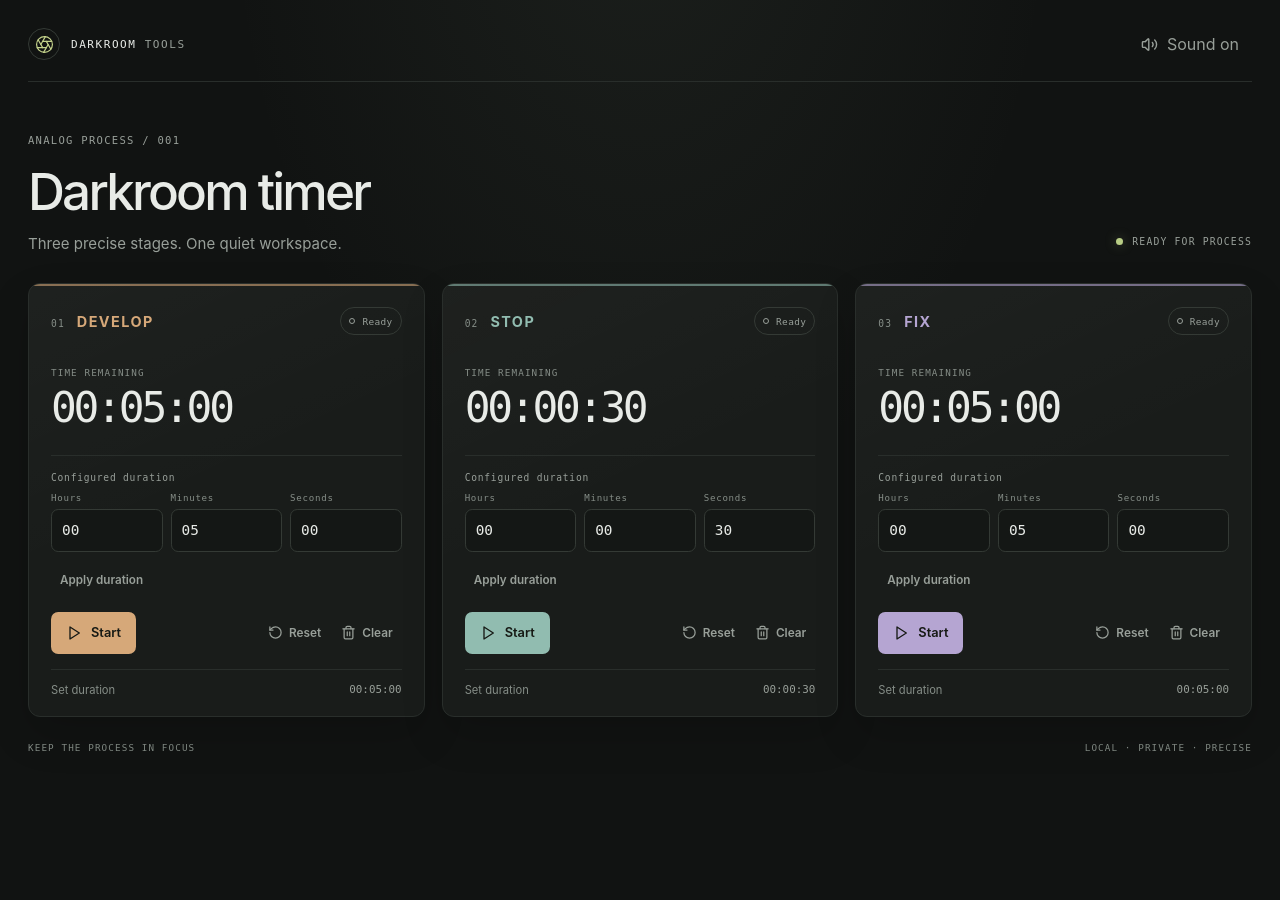
Test: darkroom timer interactions › can complete a one-second timer without announcing every tick
Replace the text in the field named "DEVELOP hours" with "0" at (107, 530), box [51,509,162,552]
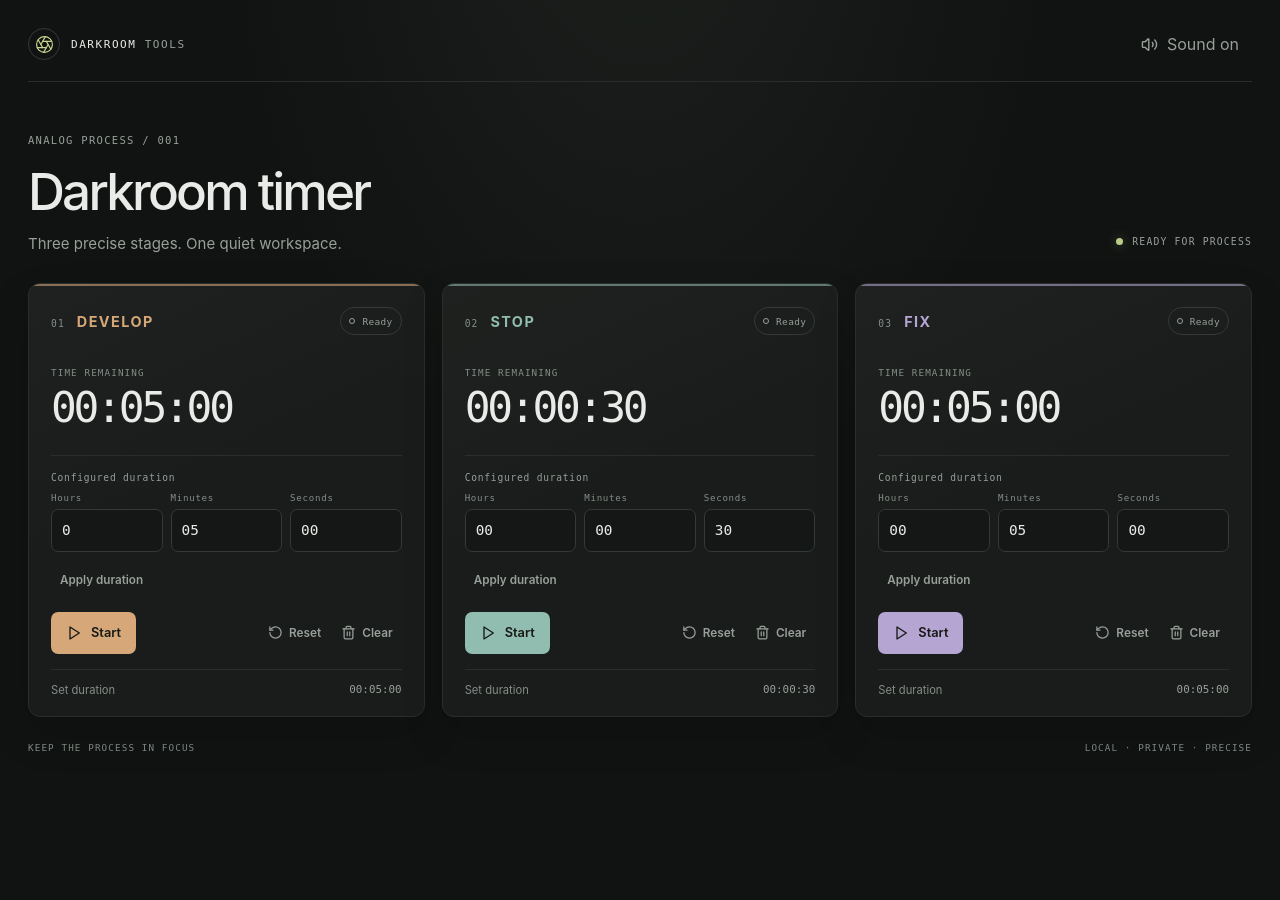
Replace the text in the field named "DEVELOP minutes" with "0" at (226, 530), box [170,509,282,552]
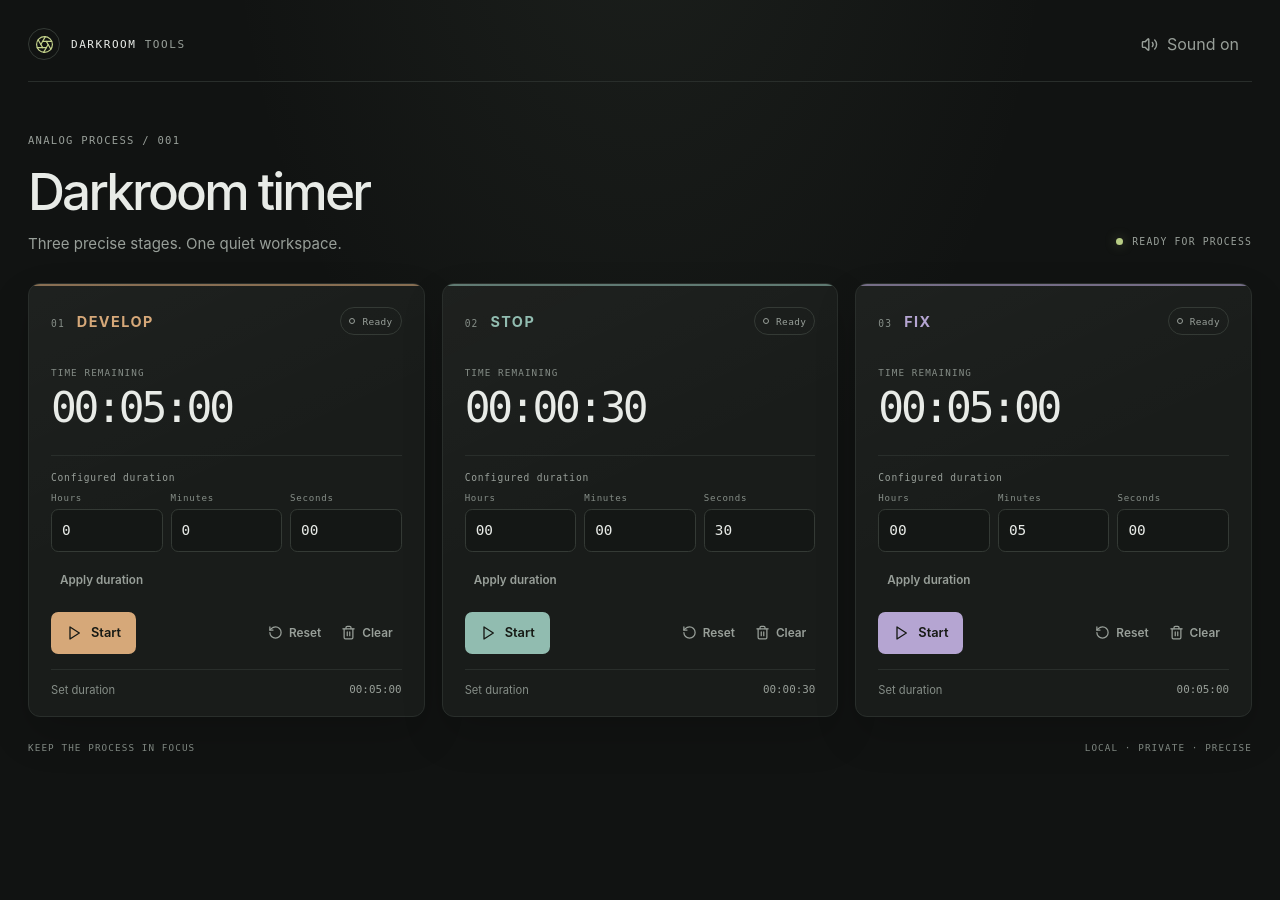
Replace the text in the field named "DEVELOP seconds" with "1" at (346, 530), box [290,509,402,552]
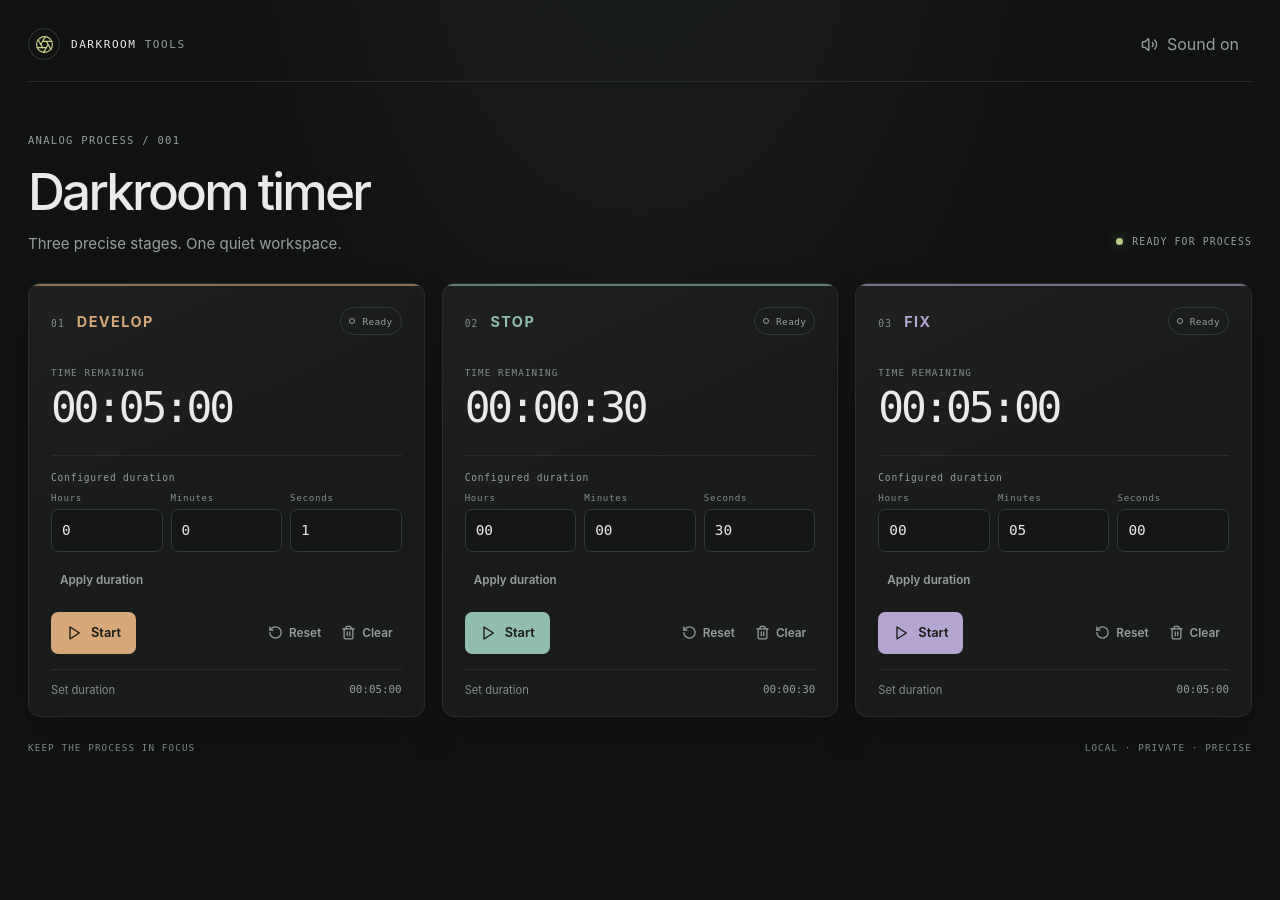
Click the button "Apply duration" below "DEVELOP".
click(102, 580)  # box [51,562,152,598]
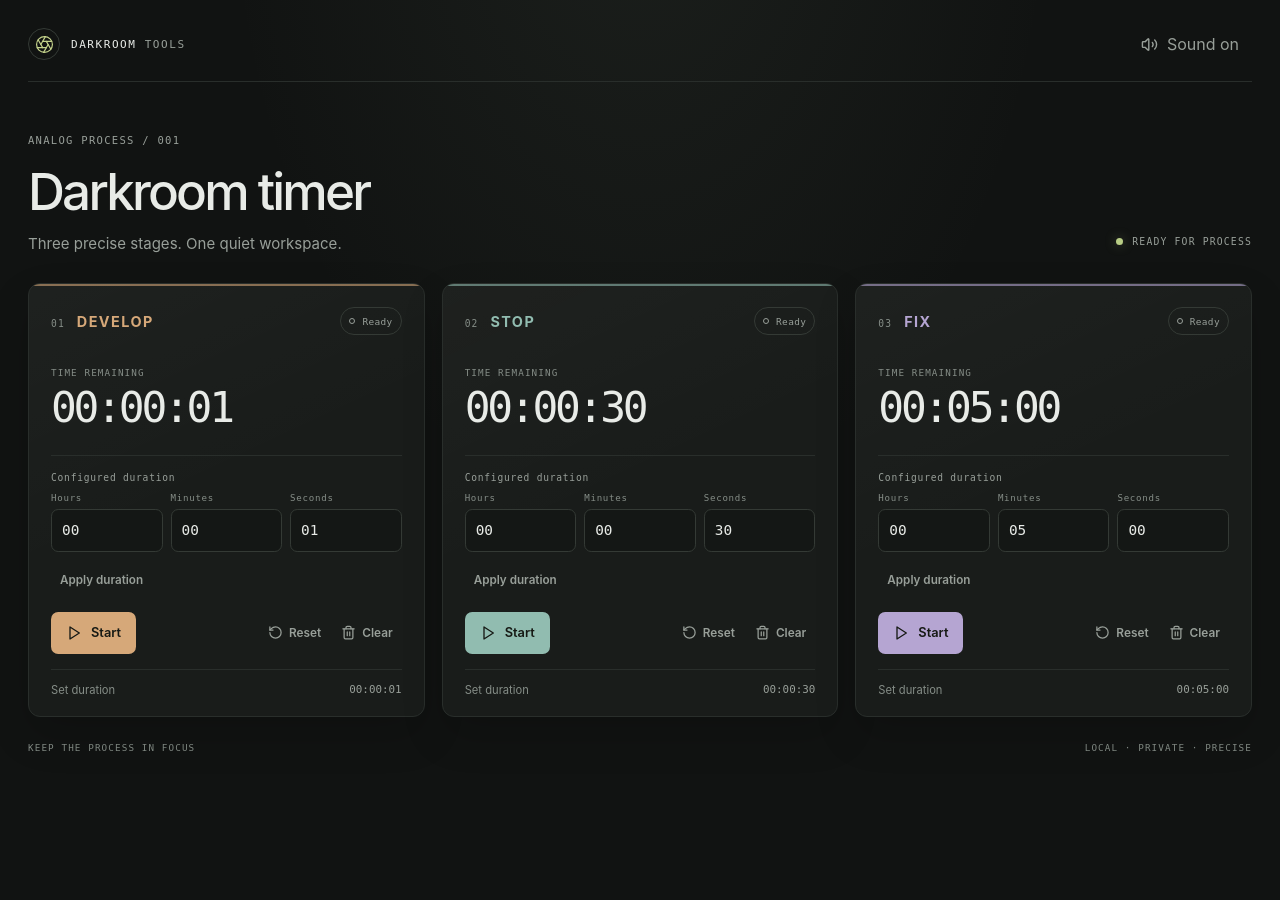
Click the button "Start" below "DEVELOP".
click(94, 633)  # box [51,612,136,654]
Wait 1100 ms
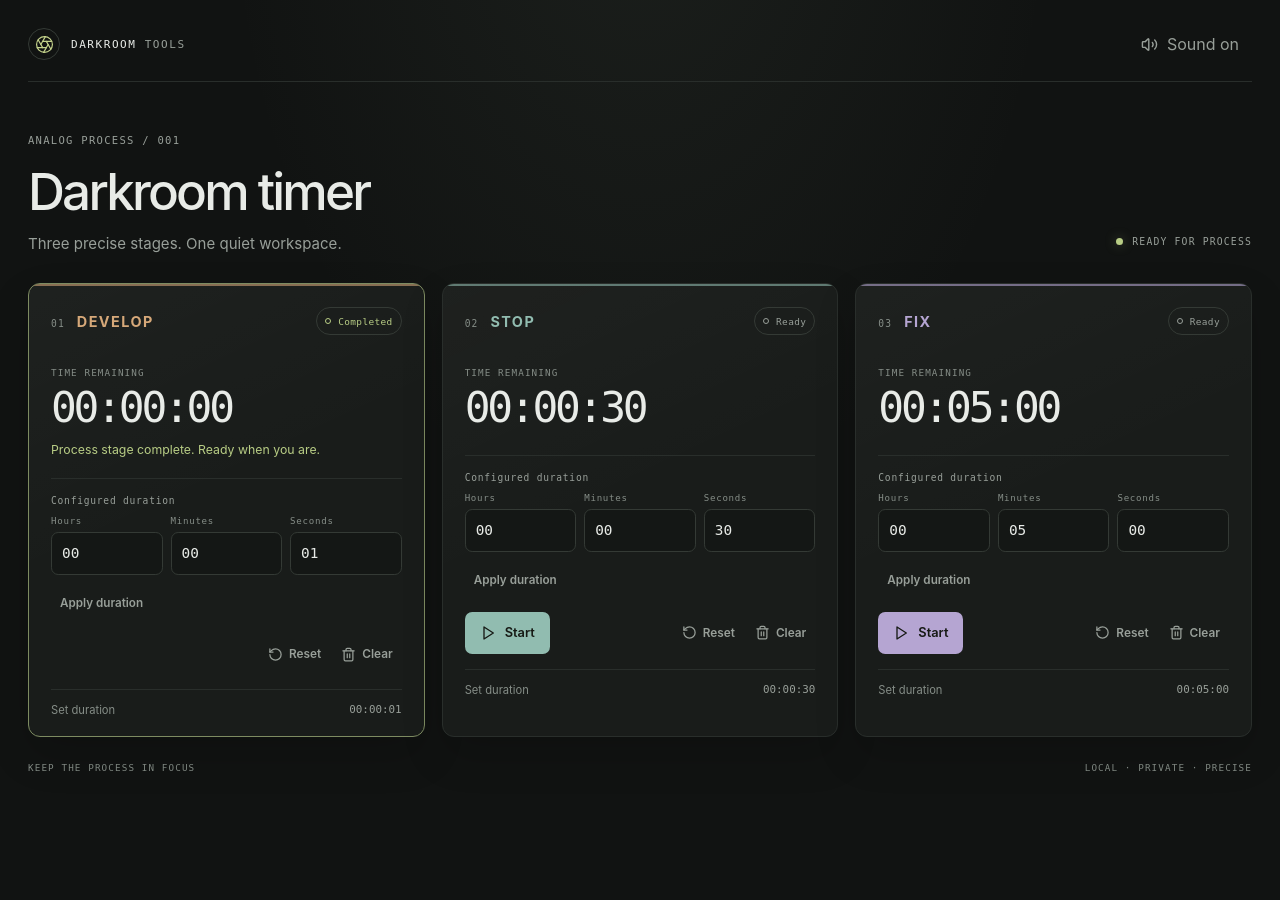
Now the text "Completed" is shown, box [316,307,402,335]
Now the text named "00:00:00 remaining" is shown, box [51,382,232,432]
